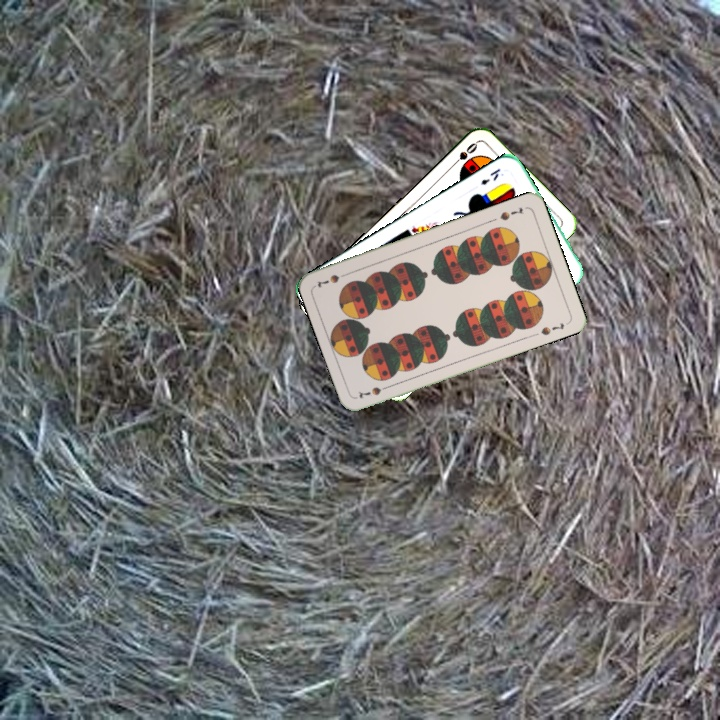EK: (476, 164, 503, 188)
S7: (354, 381, 393, 401), (496, 203, 526, 223)
SO: (447, 138, 480, 170)
